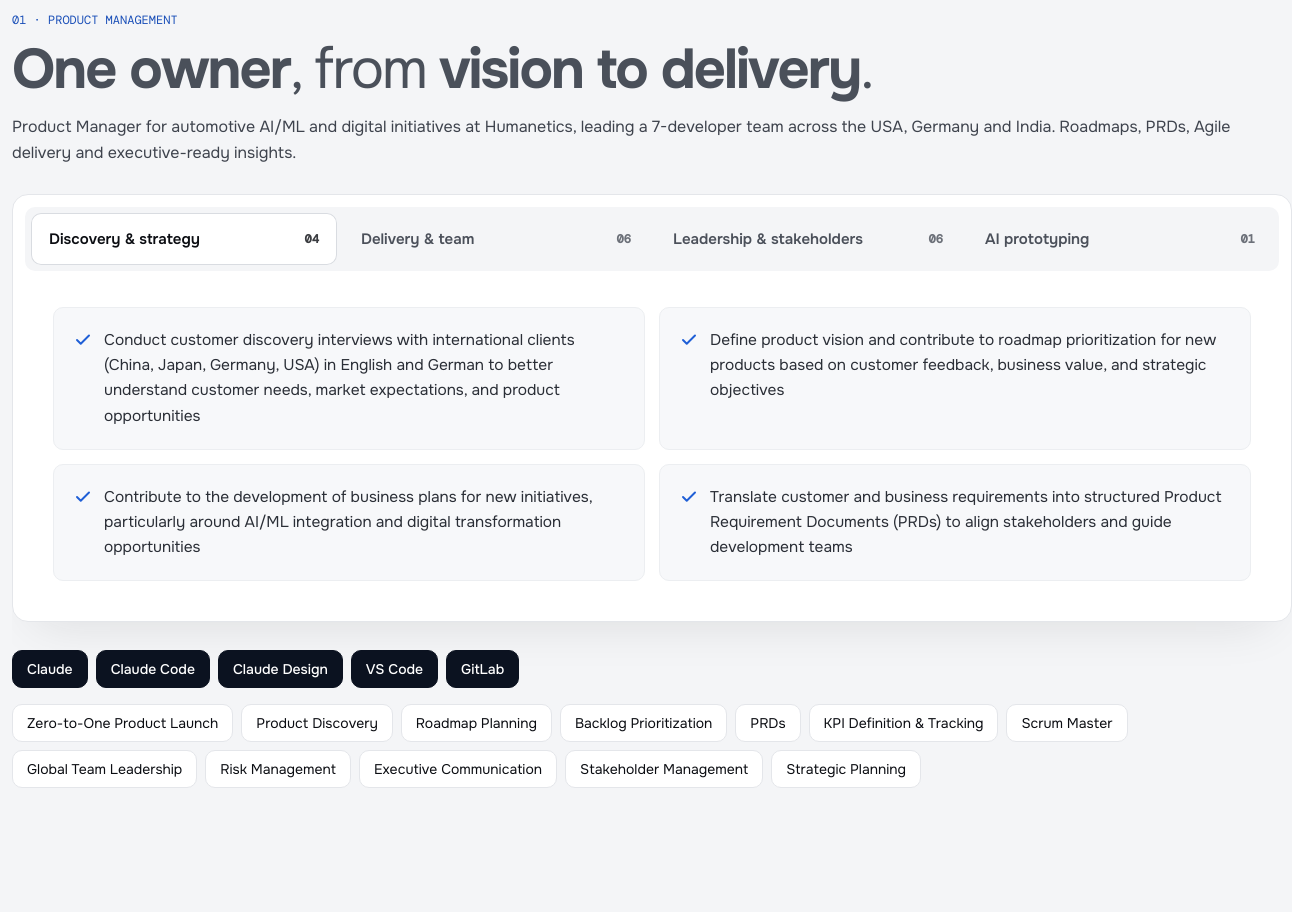
it: ProductRole › switches the visible items when another area is picked
Click the button "Delivery & team 06" at (418, 239), box [343,213,649,265]
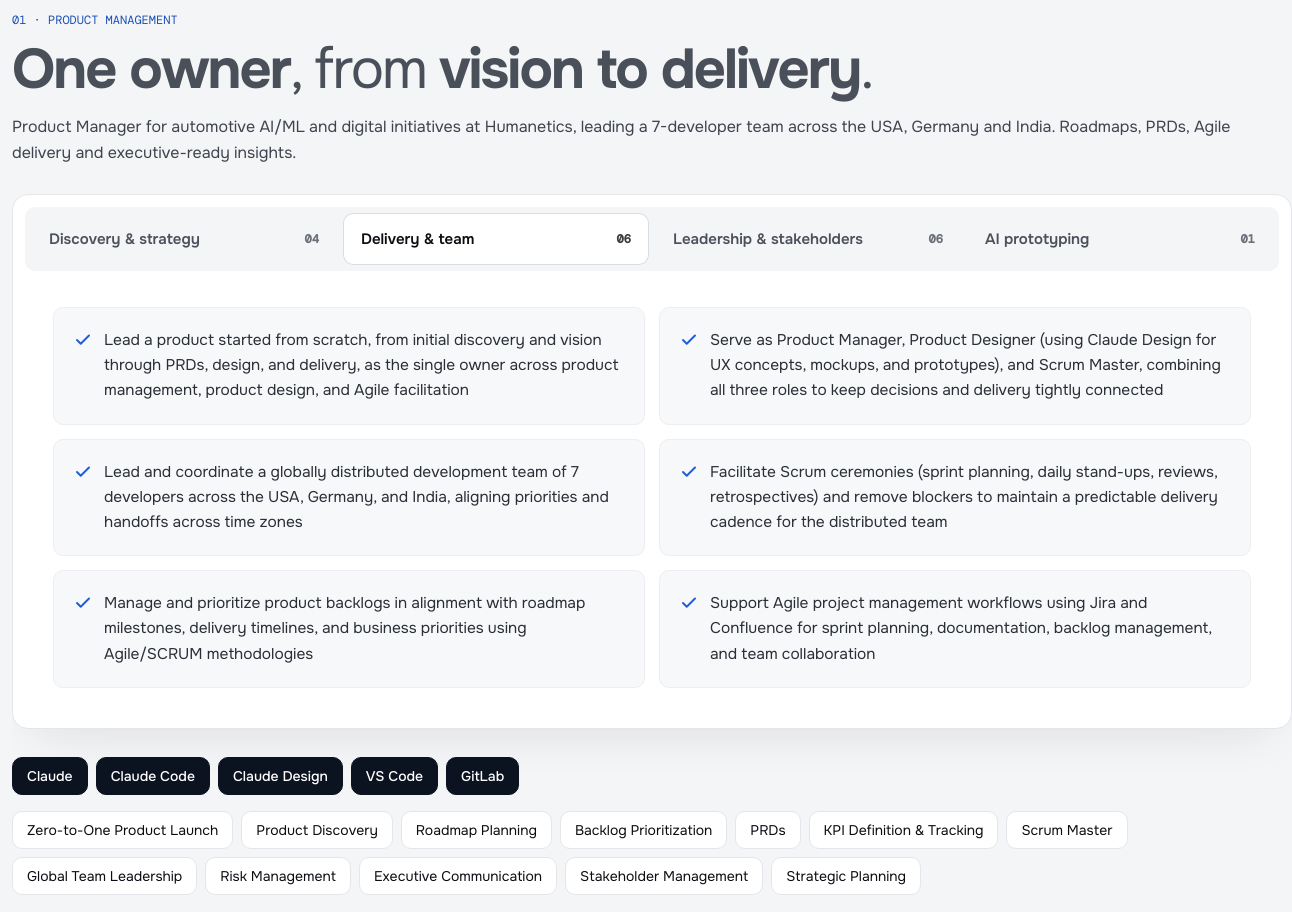
Now the element named "Delivery & team" is shown, box [25,283,1279,716]
Now the text "Lead a product started from scratch, from initial discovery and vision through PRDs, design, and delivery, as the single" is shown, box [104,330,619,400]
Now the text "Conduct customer discovery interviews with international clients (China, Japan, Germany, USA) in English and German to b" is gone
